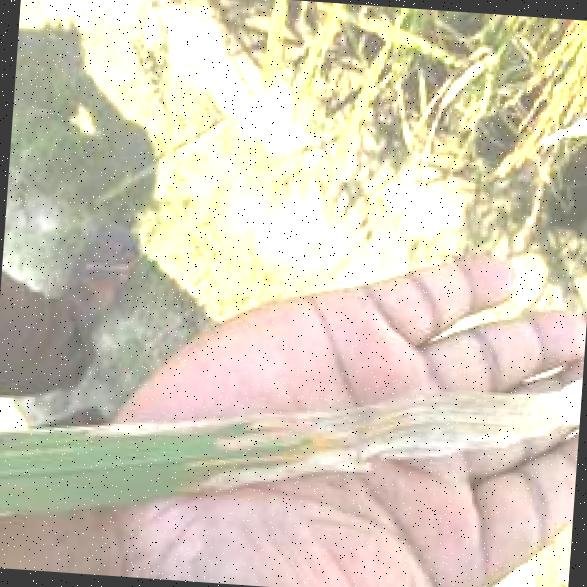Bacteria_Leaf_Blight: (160, 379, 556, 467)
